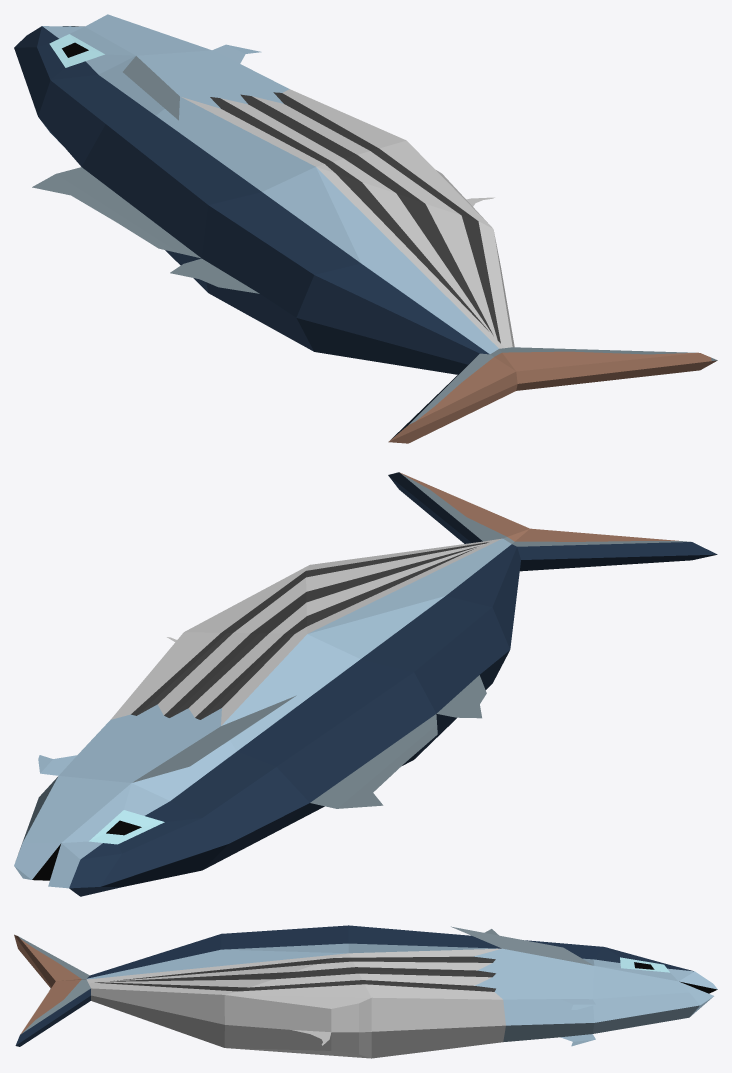
File: TunaRaw.glb
3 renders of one model, top to bottom at view 1: azimuth 30°, elevation 25°; view 2: azimuth 150°, elevation 25°; view 3: azimuth 270°, elevation 25°, orthographic. The views are drawn at different scales.
Visible parts, largest first — view 1: EXPORT_tuna; view 2: EXPORT_tuna; view 3: EXPORT_tuna.
Part boxes in pixels (left/top/right/bottom): EXPORT_tuna: left=14, top=14, right=717, bottom=443; EXPORT_tuna: left=14, top=472, right=717, bottom=896; EXPORT_tuna: left=14, top=925, right=717, bottom=1058.
Size of the model in its own units: 0.2526 by 0.0906 by 0.6547.
